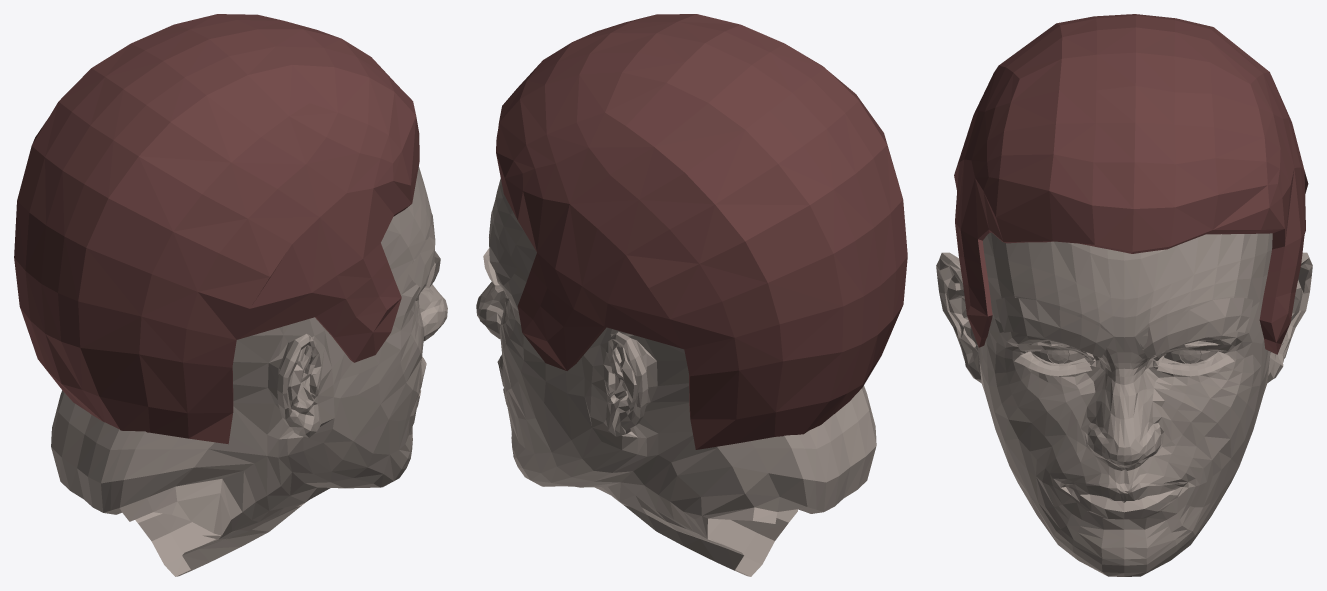
Rendered from head.dae.
3 renders of one model, left to right at view 1: azimuth 30°, elevation 25°; view 2: azimuth 150°, elevation 25°; view 3: azimuth 270°, elevation 25°, orthographic.
Visible parts, largest first — view 1: Hair, Head; view 2: Hair, Head; view 3: Head, Hair.
Boxes of the visible parts, box(x1,y1,x2,y2) form: Hair: box(14, 14, 419, 444); Head: box(51, 166, 447, 576); Hair: box(496, 14, 907, 449); Head: box(476, 178, 876, 576); Head: box(936, 232, 1312, 576); Hair: box(954, 14, 1308, 354).
Size of the model in its own units: 0.2268 by 0.1854 by 0.2832.
